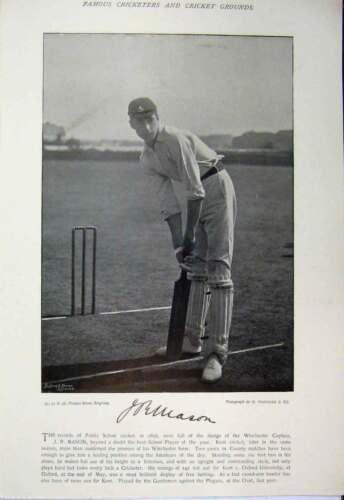batsman: (129, 98, 236, 385)
